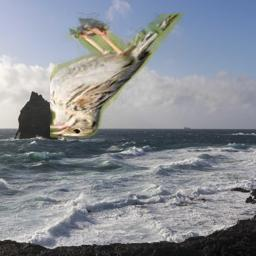Sparrow: (50, 11, 185, 138)
